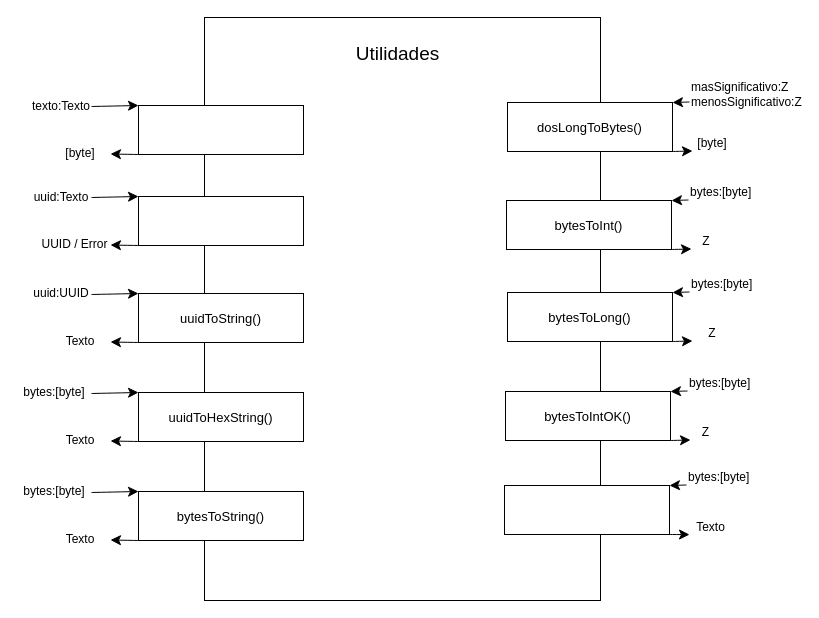
Image size: 819x618. Some labels were removed from this diagram. Each missing label, with the centre of its shape:
bytesToHexString(): point 587,509
StringToBytes(): point 221,129
StringToUUID(): point 221,221
